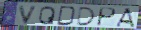A: (115, 8, 136, 29)
D: (57, 5, 78, 27), (76, 6, 97, 26)
P: (96, 7, 117, 27)
Q: (38, 5, 57, 26)
V: (18, 5, 39, 25)
